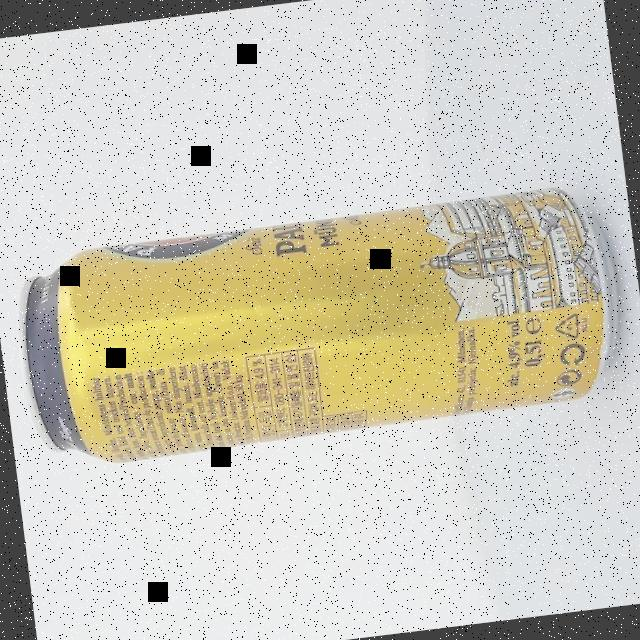can: (6, 180, 632, 472)
